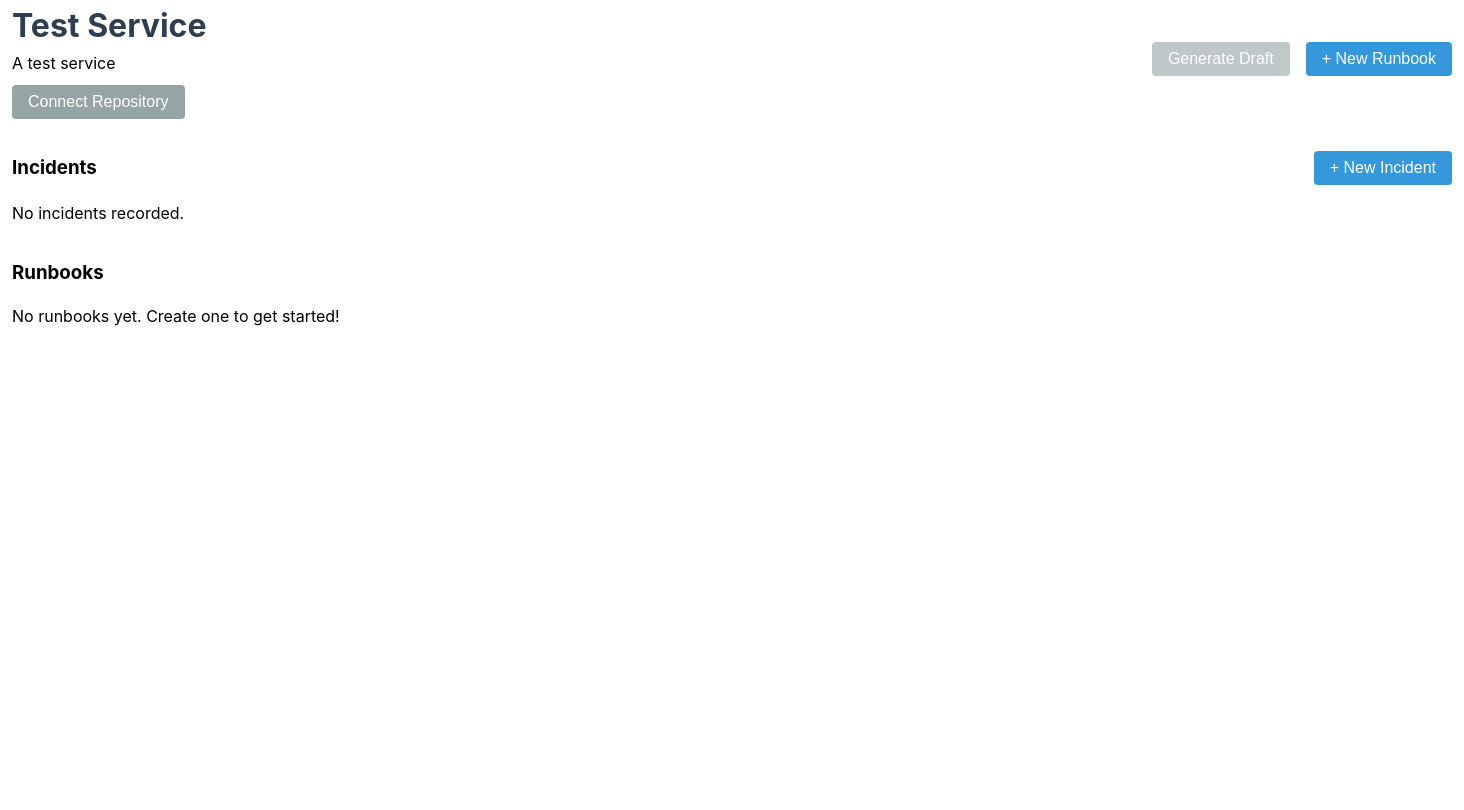
Test case: ServiceDetailPage › shows incident form when New Incident is clicked
Click the button "+ New Incident" at (1383, 168), box [1314, 151, 1452, 185]
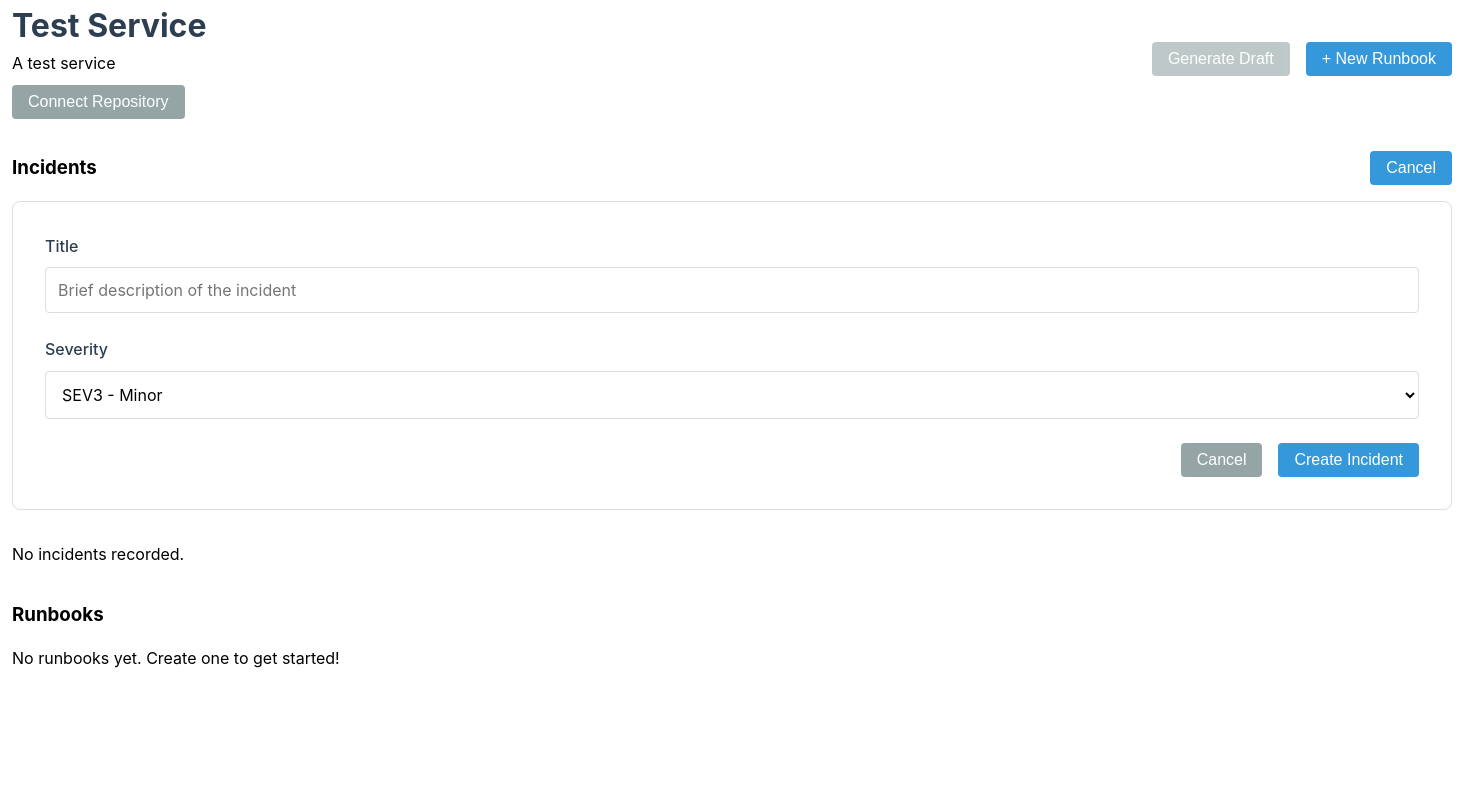
Expected: the field with placeholder "Brief description of the incident" is shown, [45, 267, 1419, 313]
